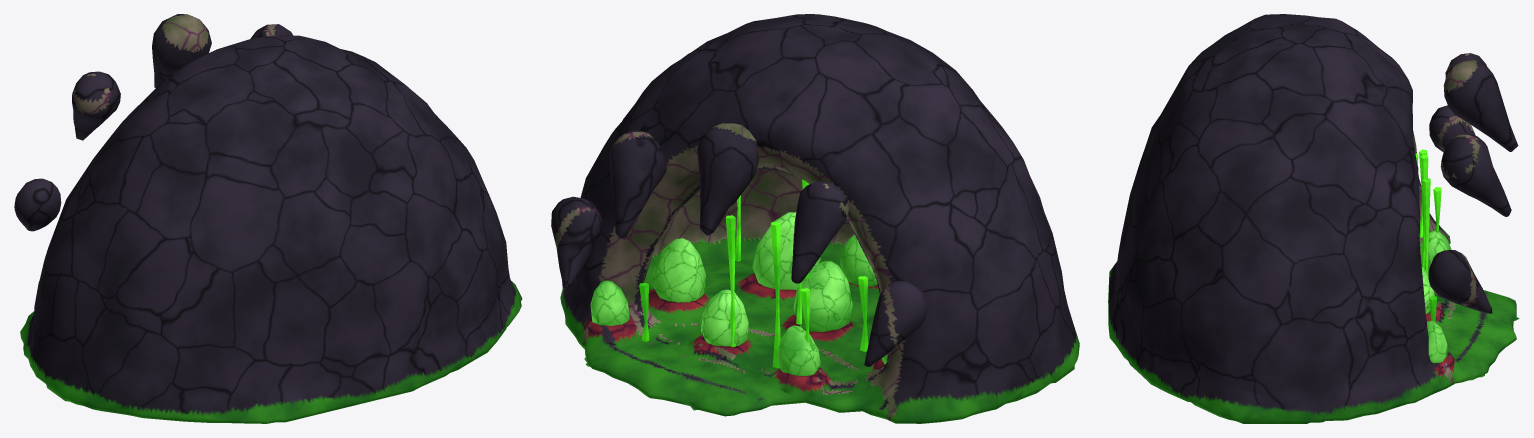
Rendered from cueva_incubadora.fbx.
3 renders of one model, left to right at view 1: azimuth 30°, elevation 25°; view 2: azimuth 150°, elevation 25°; view 3: azimuth 270°, elevation 25°, orthographic. The views are drawn at different scales.
Visible parts, largest first — view 1: cueva; view 2: cueva, huevos_cristal; view 3: cueva, huevos_cristal.
Boxes of the visible parts, <box> form: cueva: <box>14,14,522,423</box>; cueva: <box>551,14,1079,423</box>; huevos_cristal: <box>590,212,887,376</box>; cueva: <box>1108,14,1519,423</box>; huevos_cristal: <box>1420,230,1451,363</box>.
Bounding box in the file's own units: 10 × 6.01 × 8.
1 material, 1 textured.
